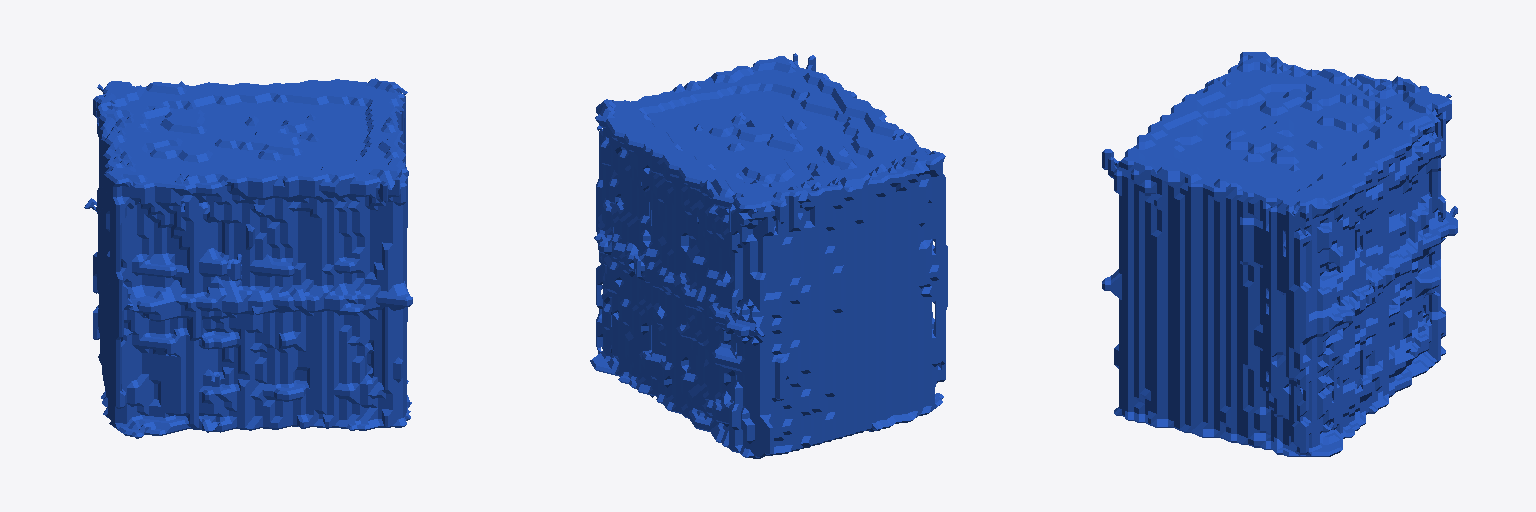
Rendered from gen1_colored.obj.
3 views of the same model, side by side, from view 1: azimuth 30°, elevation 25°; view 2: azimuth 150°, elevation 25°; view 3: azimuth 270°, elevation 25° (orthographic).
Visible parts, largest first — view 1: gen1.obj; view 2: gen1.obj; view 3: gen1.obj.
Boxes of the visible parts, x1=… form: gen1.obj: x1=84, y1=78, x2=412, y2=438; gen1.obj: x1=590, y1=53, x2=947, y2=458; gen1.obj: x1=1102, y1=52, x2=1457, y2=456.
Size of the model in its own units: 64 by 51 by 62.